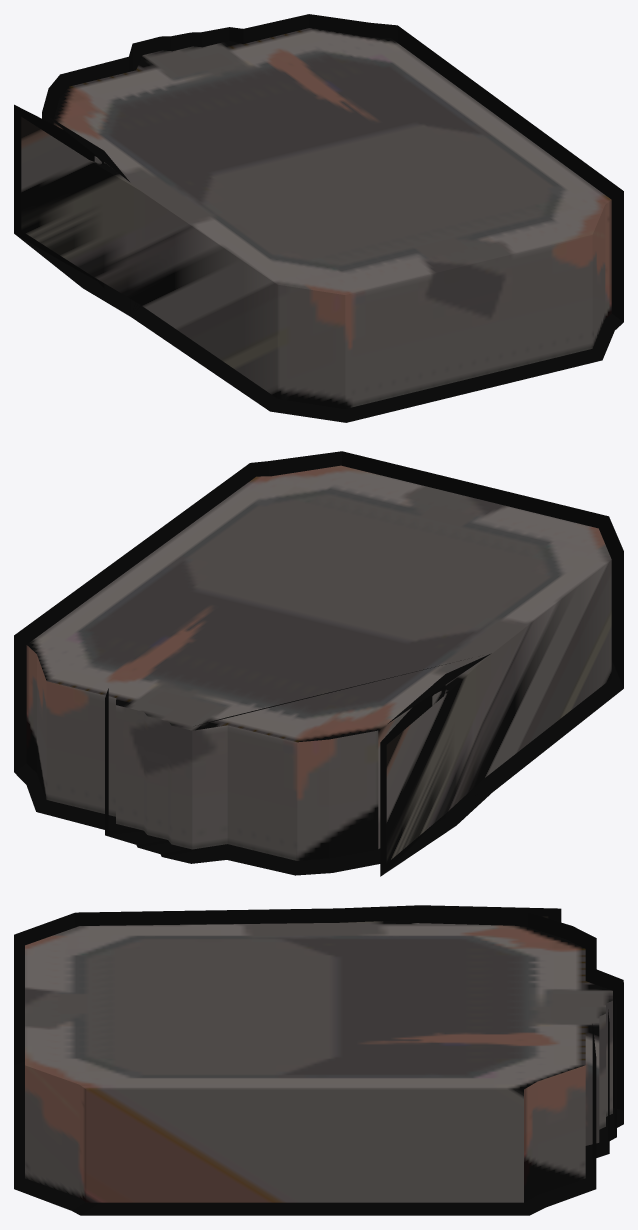
Rendered from Building_AncientSpacerCrate_Things_Building_Ruins_AncientSpacerCrate_AncientSpacerCrateA.glb.
3 renders of one model, top to bottom at view 1: azimuth 30°, elevation 25°; view 2: azimuth 150°, elevation 25°; view 3: azimuth 270°, elevation 25°, orthographic. The views are drawn at different scales.
Visible parts, largest first — view 1: Body, Outline; view 2: Body, Outline; view 3: Body, Outline.
Part boxes in pixels (bbox=[...]): Body: bbox=[21, 28, 611, 408]; Outline: bbox=[14, 14, 623, 422]; Body: bbox=[26, 465, 611, 863]; Outline: bbox=[14, 451, 623, 876]; Body: bbox=[25, 916, 612, 1202]; Outline: bbox=[14, 905, 623, 1215].
Bounding box in the file's own units: 0.8643 × 0.3166 × 1.24.
Materials: 2 (1 with a texture image).
